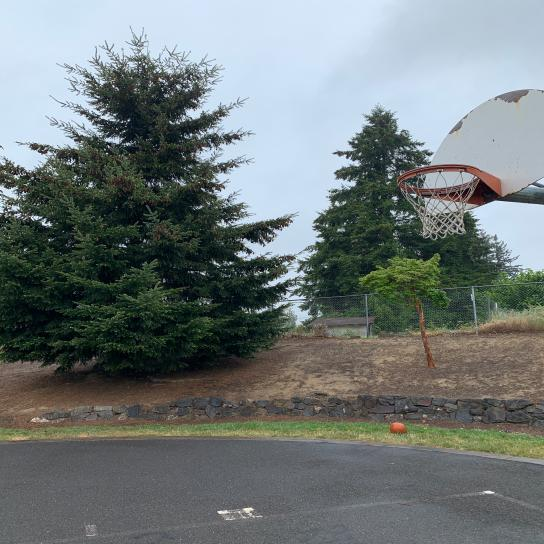basketball-hoop: (395, 162, 485, 241)
